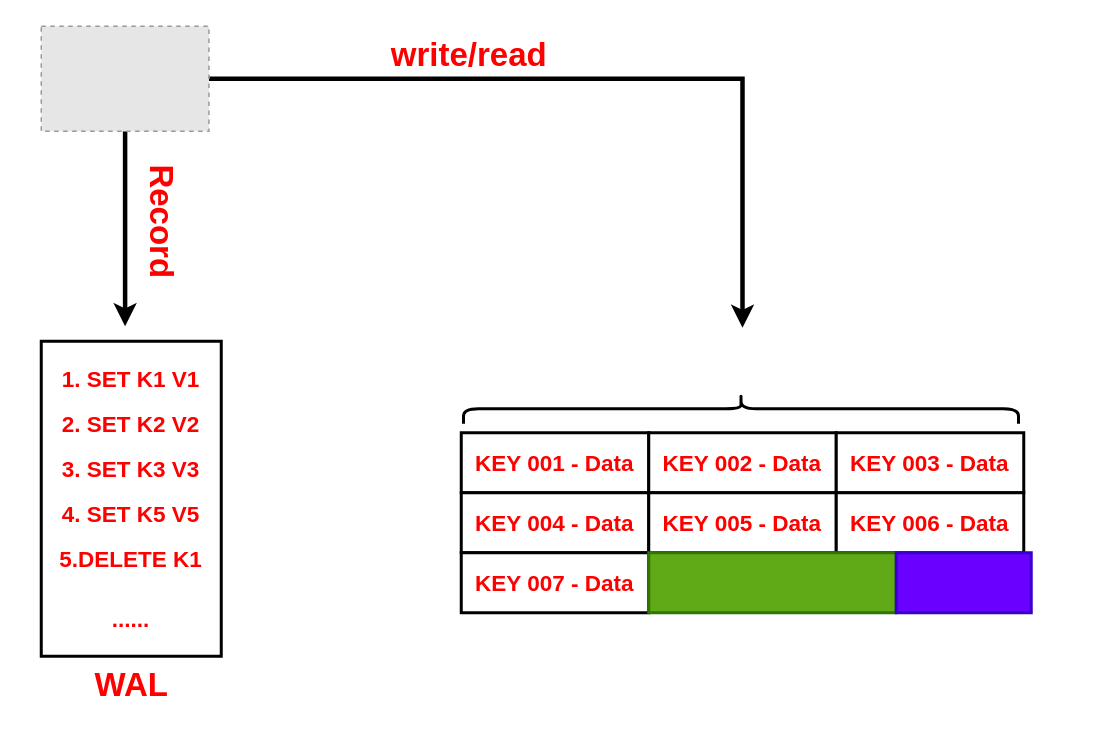
Image size: 1101x743. Some labels were removed from this diagram. Grey dashed boxes stand in for pictures. The box of each missing label's shape, as (x1, y1, x2, y2) in pixels:
CRC: (894, 550, 1032, 614)
Sparse Index: (646, 550, 897, 614)
SSTable: (461, 392, 1019, 424)
